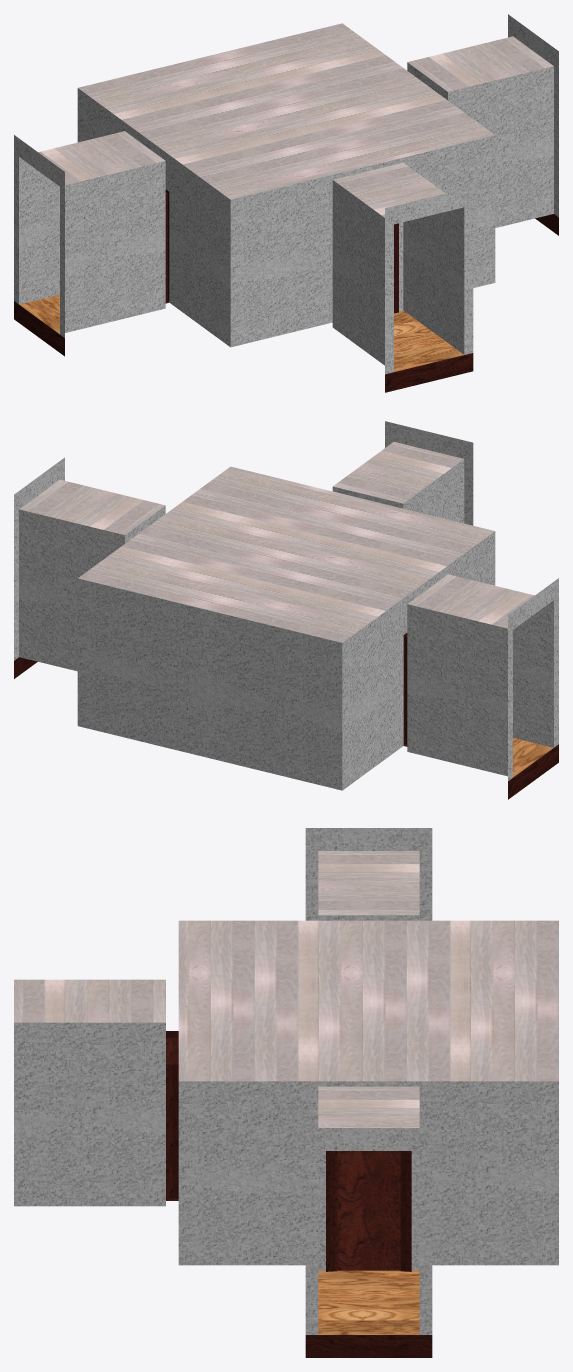
The model's file is townDungeon1cell.gltf.
The picture shows the model from 3 angles, top to bottom: view 1: azimuth 30°, elevation 25°; view 2: azimuth 150°, elevation 25°; view 3: azimuth 270°, elevation 25°; orthographic projection. The views are drawn at different scales.
Parts seen in each view (by area): view 1: townDungeon1cell; view 2: townDungeon1cell; view 3: townDungeon1cell.
Boxes of the visible parts, box(x1,y1,x2,y2) form: townDungeon1cell: box(14, 14, 558, 392); townDungeon1cell: box(14, 421, 558, 799); townDungeon1cell: box(14, 828, 558, 1357).
Size of the model in its own units: 14 by 5 by 10.75.
Materials: 4 (4 with a texture image).
